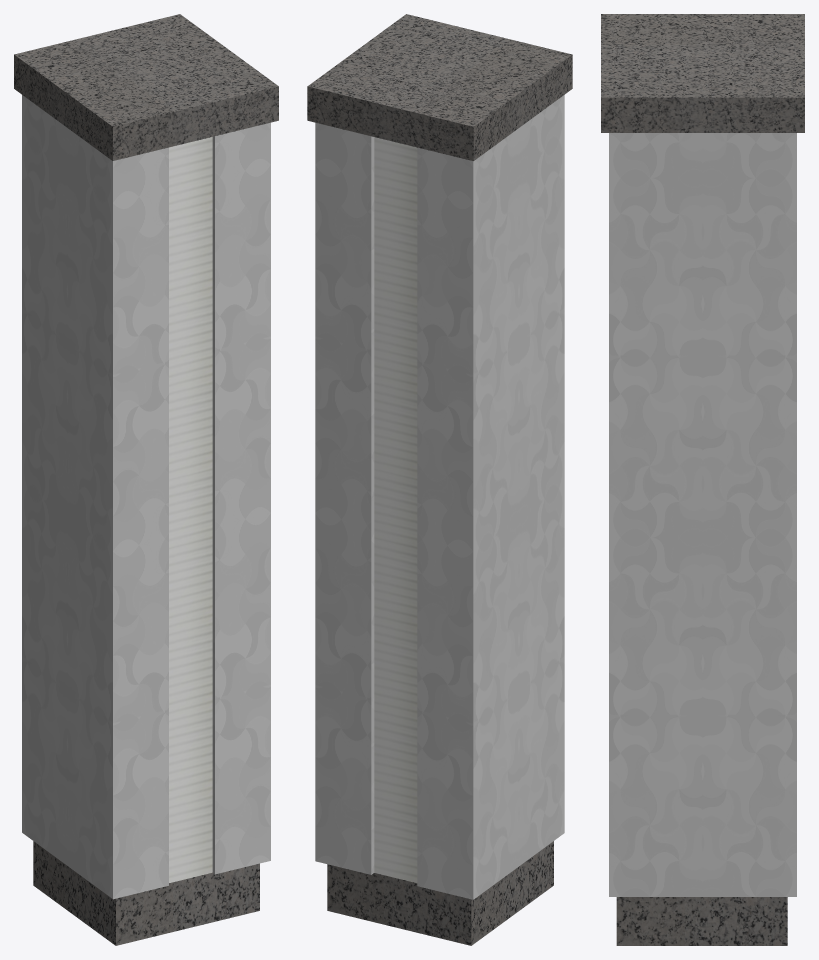
The model's file is Subway03_InterCalumn01.FBX.
3 renders of one model, left to right at view 1: azimuth 30°, elevation 25°; view 2: azimuth 150°, elevation 25°; view 3: azimuth 270°, elevation 25°, orthographic. The views are drawn at different scales.
Visible parts, largest first — view 1: Subway03_InterCalumn01, Subway03_InterCalumn02; view 2: Subway03_InterCalumn01, Subway03_InterCalumn02; view 3: Subway03_InterCalumn01, Subway03_InterCalumn02.
Part boxes in pixels (x1=…): Subway03_InterCalumn01: x1=22, y1=95, x2=270, y2=945; Subway03_InterCalumn02: x1=14, y1=14, x2=278, y2=160; Subway03_InterCalumn01: x1=315, y1=95, x2=564, y2=945; Subway03_InterCalumn02: x1=307, y1=14, x2=572, y2=160; Subway03_InterCalumn01: x1=609, y1=133, x2=796, y2=945; Subway03_InterCalumn02: x1=601, y1=14, x2=804, y2=132.
Size of the model in its own units: 1261 by 6005 by 1300.
